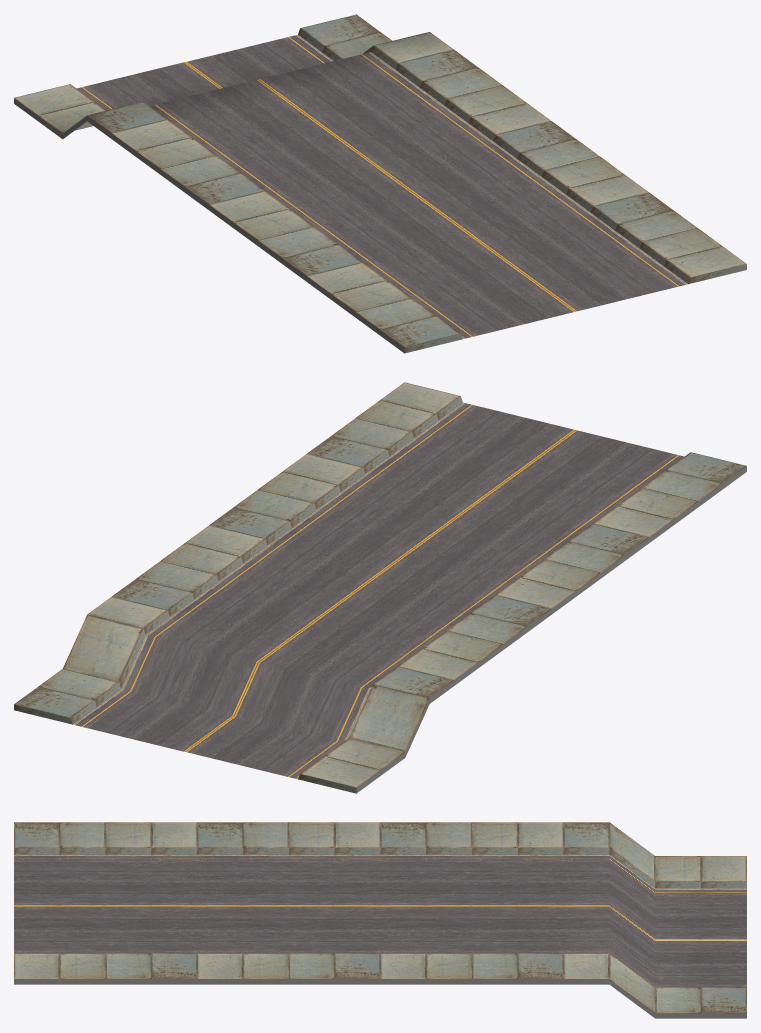
File: longSlope1.FBX
The picture shows the model from 3 angles, top to bottom: view 1: azimuth 30°, elevation 25°; view 2: azimuth 150°, elevation 25°; view 3: azimuth 270°, elevation 25°; orthographic projection. The views are drawn at different scales.
Visible parts, largest first — view 1: Plane003, Plane005, Plane002, Plane004, Plane006, Plane001, Plane007, Plane008; view 2: Plane007, Plane008, Plane002, Plane003, Plane005, Plane001, Plane006, Plane004; view 3: Plane001, Plane004, Plane006, Plane008, Plane007, Plane002, Plane003, Plane005.
Boxes of the visible parts, x1,y1,x2,y2 form: Plane003: [478, 192, 746, 311]; Plane005: [283, 49, 551, 168]; Plane002: [381, 121, 648, 240]; Plane004: [307, 240, 575, 353]; Plane006: [111, 97, 379, 210]; Plane001: [209, 169, 477, 281]; Plane007: [186, 14, 453, 97]; Plane008: [14, 62, 282, 139]; Plane007: [14, 596, 282, 751]; Plane008: [185, 644, 453, 793]; Plane002: [209, 454, 477, 572]; Plane003: [307, 382, 575, 501]; Plane005: [112, 525, 379, 644]; Plane001: [381, 501, 649, 614]; Plane006: [283, 573, 551, 685]; Plane004: [478, 430, 746, 542]; Plane001: [197, 822, 380, 906]; Plane004: [14, 822, 197, 906]; Plane006: [380, 822, 563, 906]; Plane008: [563, 822, 746, 939]; Plane007: [563, 906, 746, 1018]; Plane002: [197, 906, 380, 984]; Plane003: [14, 906, 197, 984]; Plane005: [380, 906, 563, 984].
Bounding box in the file's own units: 608 × 71.47 × 1200.
